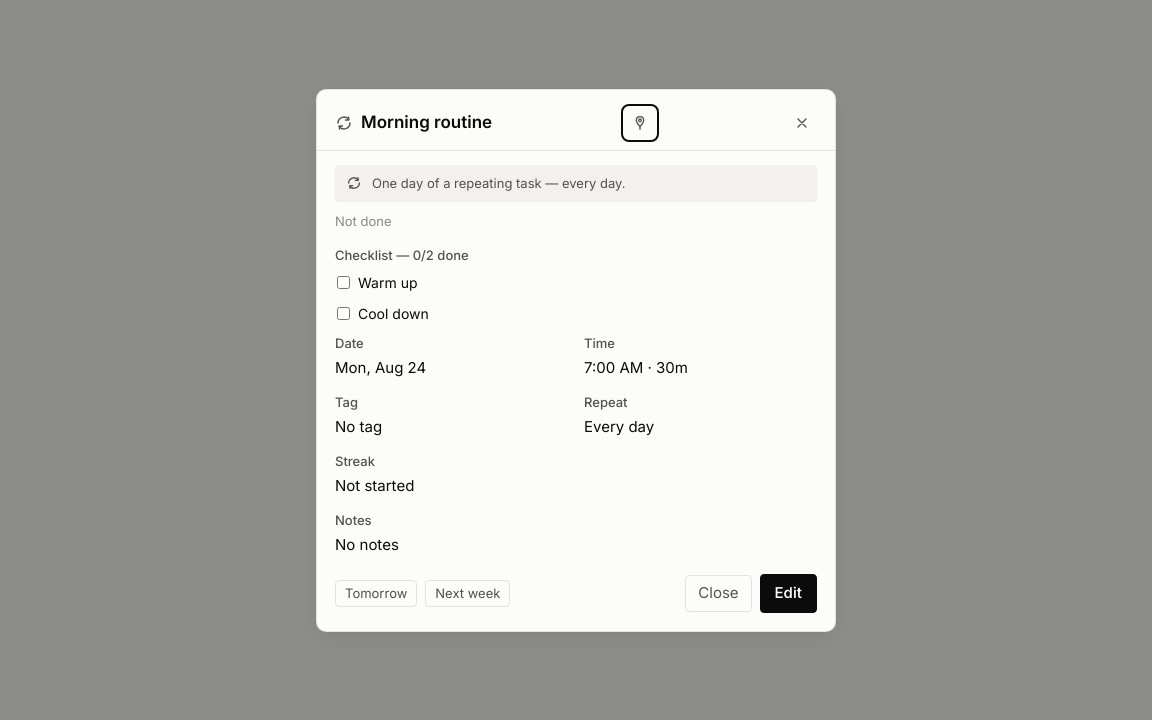
it: ItemDetail checklist on an occurrence › retargets the second tick at the document the first one just created
Click the checkbox named "Warm up" at point(344, 282), box 337,276 -> 350,289
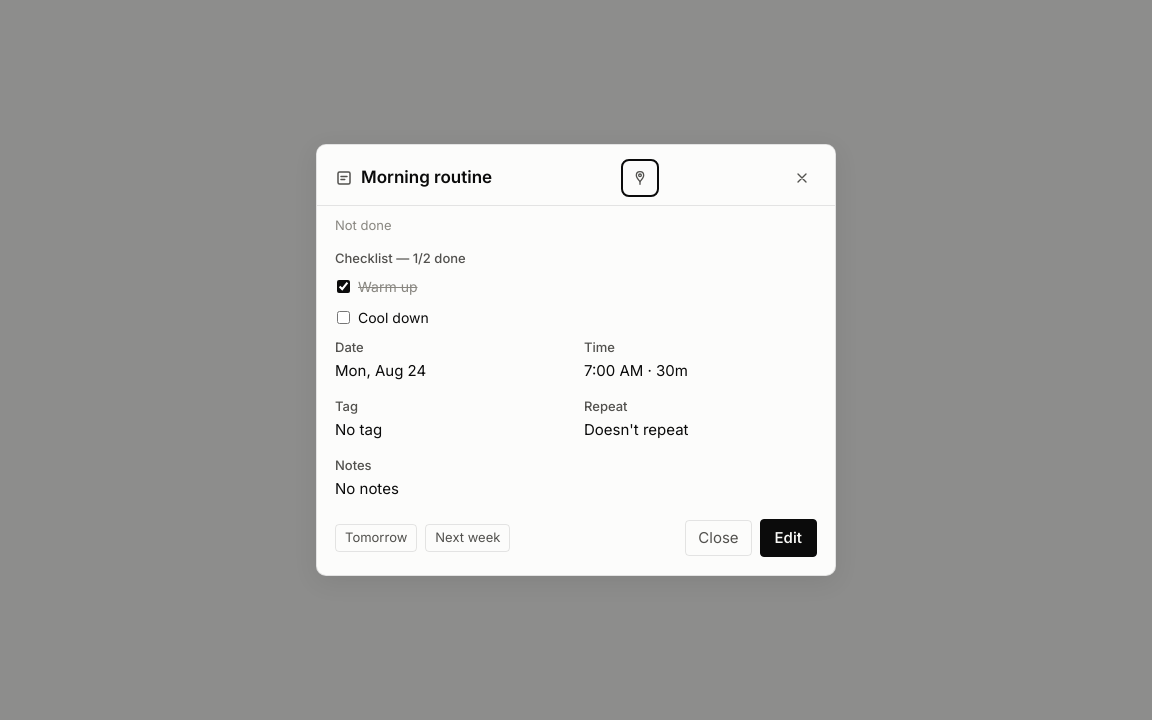
Click the checkbox named "Cool down" at point(344, 317), box 337,311 -> 350,324
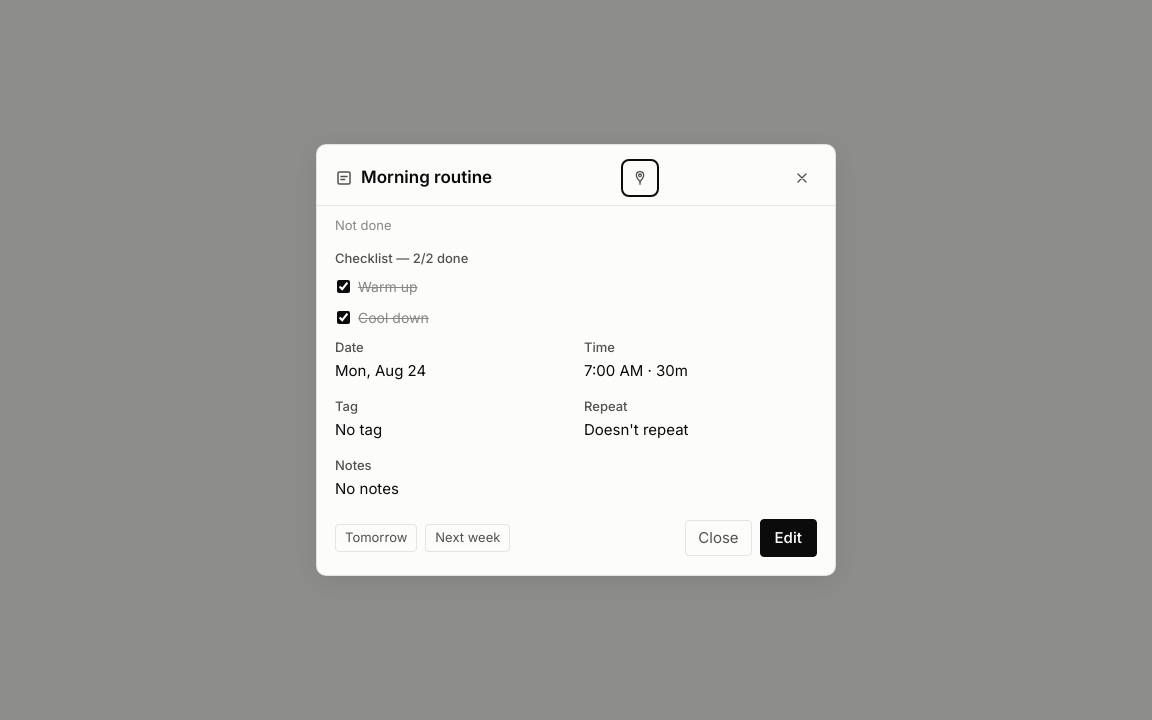
Expected: the text "Checklist — 2/2 done" is shown, 335,250 -> 468,266
